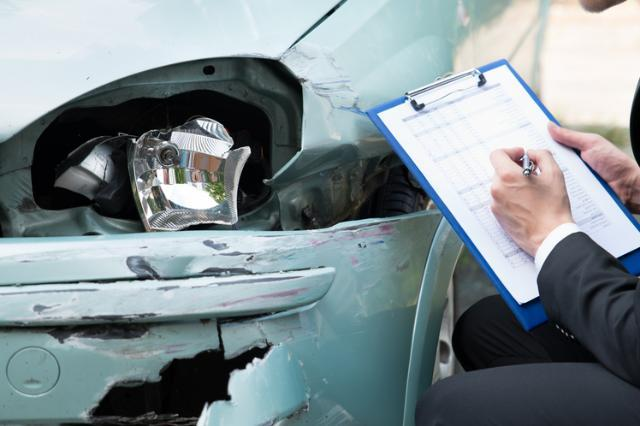Bumper: (2, 227, 447, 426)
Fender: (287, 42, 395, 175)
Light: (5, 66, 288, 224)
